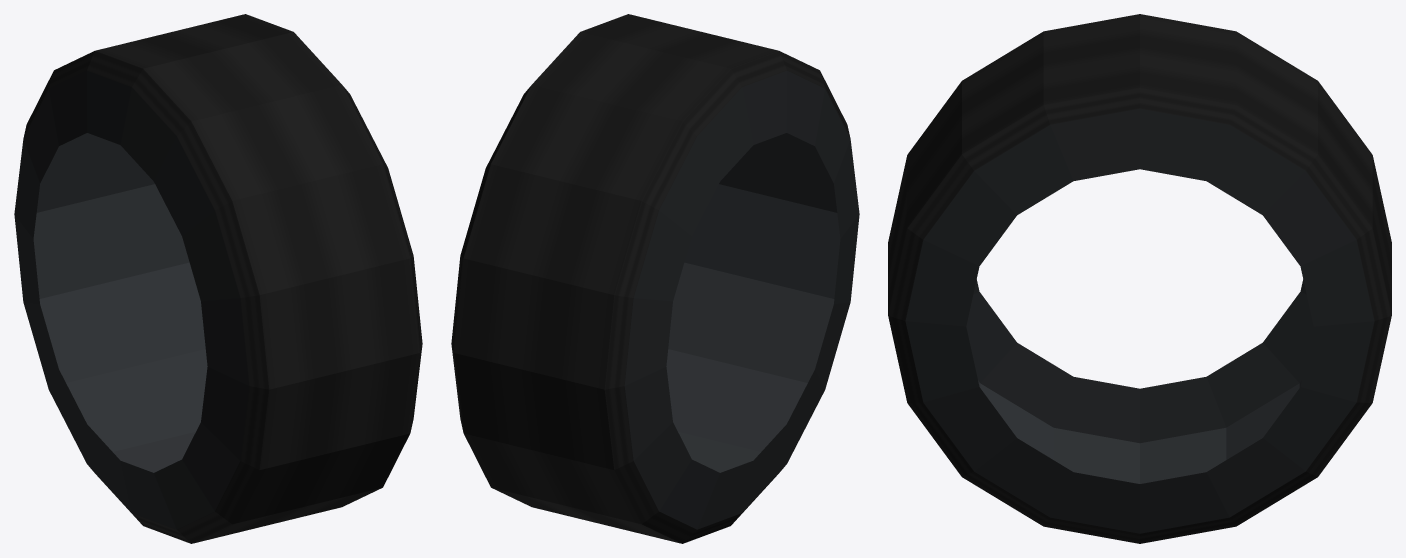
The model's file is tire_04_muscle_wide.obj.
3 renders of one model, left to right at view 1: azimuth 30°, elevation 25°; view 2: azimuth 150°, elevation 25°; view 3: azimuth 270°, elevation 25°, orthographic.
Visible parts, largest first — view 1: tire_04_muscle_wide; view 2: tire_04_muscle_wide; view 3: tire_04_muscle_wide.
Boxes of the visible parts, bbox=[...] form: tire_04_muscle_wide: bbox=[14, 14, 422, 543]; tire_04_muscle_wide: bbox=[451, 14, 859, 543]; tire_04_muscle_wide: bbox=[888, 14, 1391, 543].
Bounding box in the file's own units: 0.325 × 0.725 × 0.725.
Materials: 1 (1 with a texture image).
